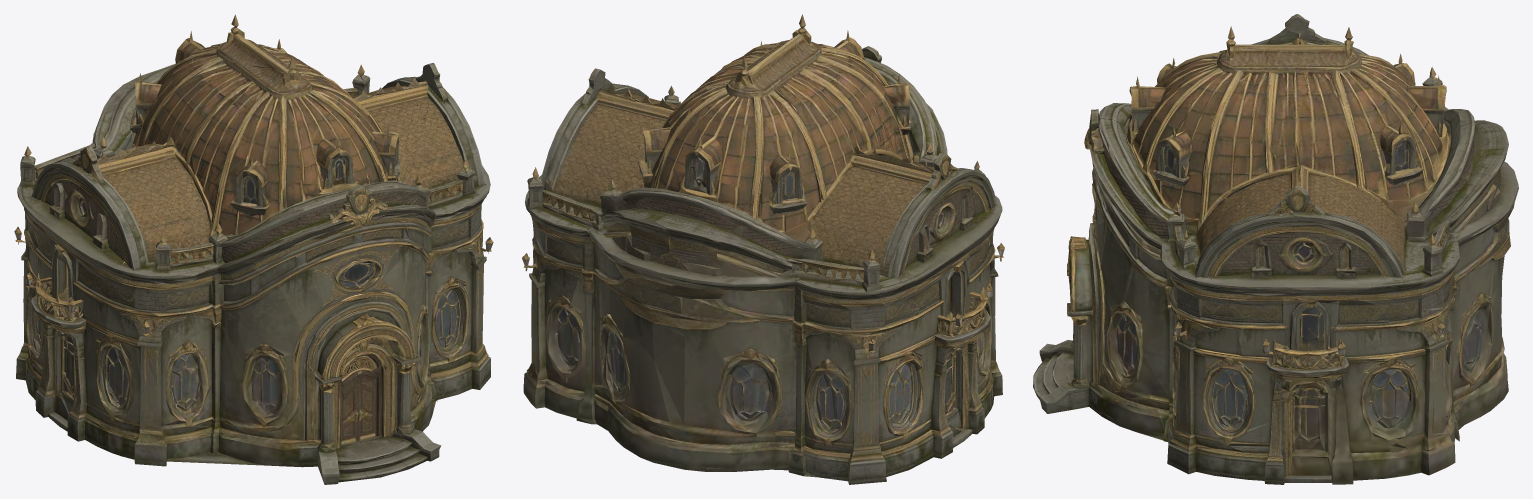
Rendered from catohab.glb.
3 renders of one model, left to right at view 1: azimuth 30°, elevation 25°; view 2: azimuth 150°, elevation 25°; view 3: azimuth 270°, elevation 25°, orthographic. The views are drawn at different scales.
Parts seen in each view (by area): view 1: catohab-centred; view 2: catohab-centred; view 3: catohab-centred.
Boxes of the visible parts, x1,y1,x2,y2 form: catohab-centred: (14,14,493,484); catohab-centred: (522,14,1004,484); catohab-centred: (1033,14,1518,484).
Bounding box in the file's own units: 20.63 × 16 × 19.59.
Materials: 1 (1 with a texture image).
